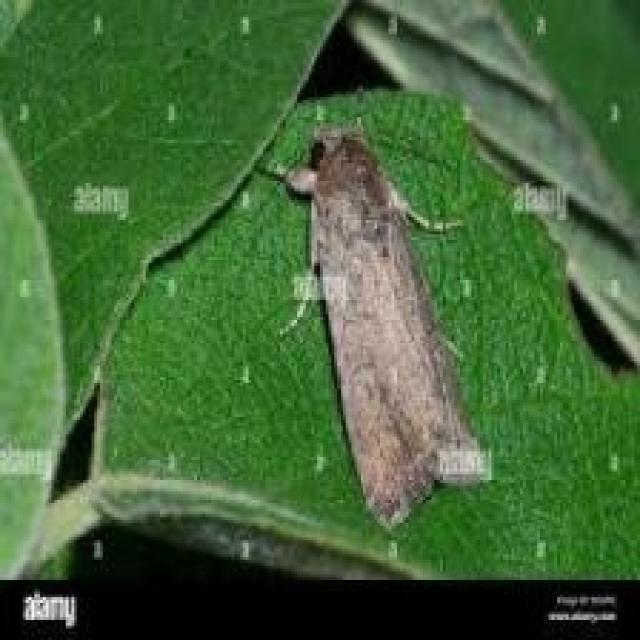Plaga: (260, 117, 497, 511)
